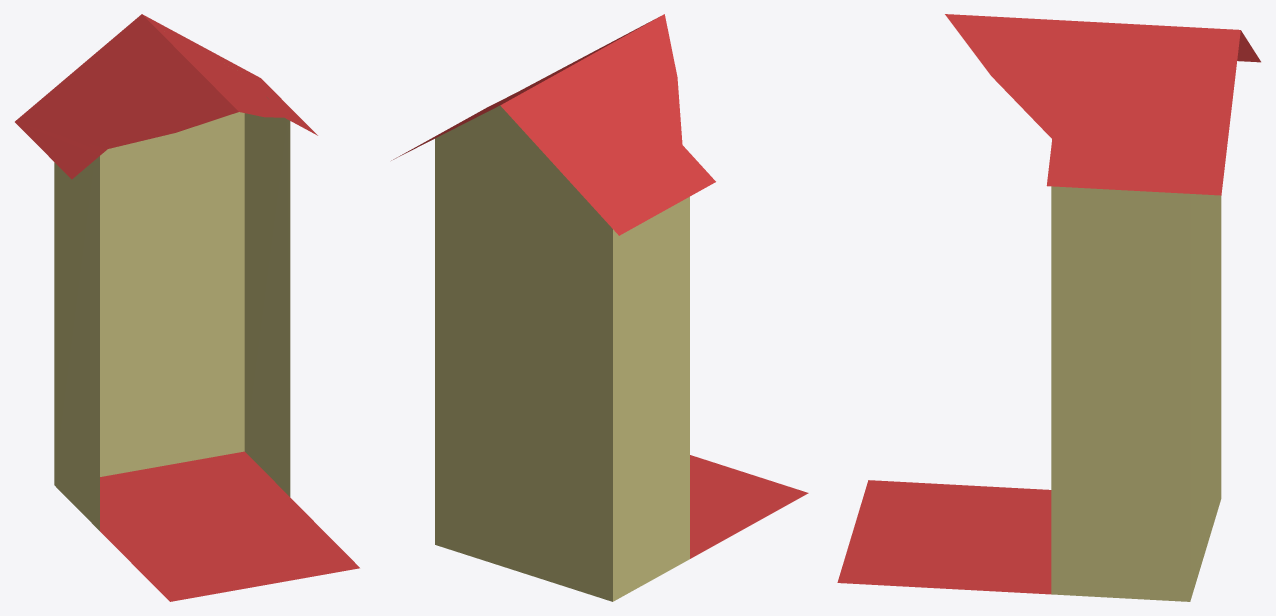
The picture shows the model from 3 angles, left to right: view 1: azimuth 30°, elevation 25°; view 2: azimuth 150°, elevation 25°; view 3: azimuth 270°, elevation 25°; orthographic projection. The views are drawn at different scales.
Bounding box in the file's own units: 4.67 × 5.88 × 8.02.
